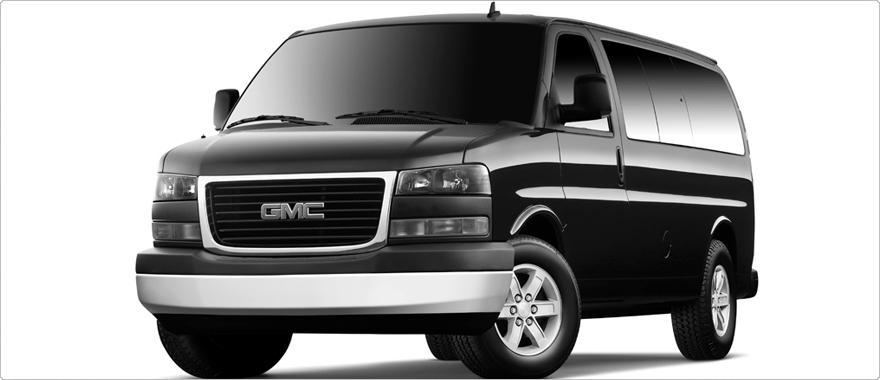car: (136, 2, 760, 379)
